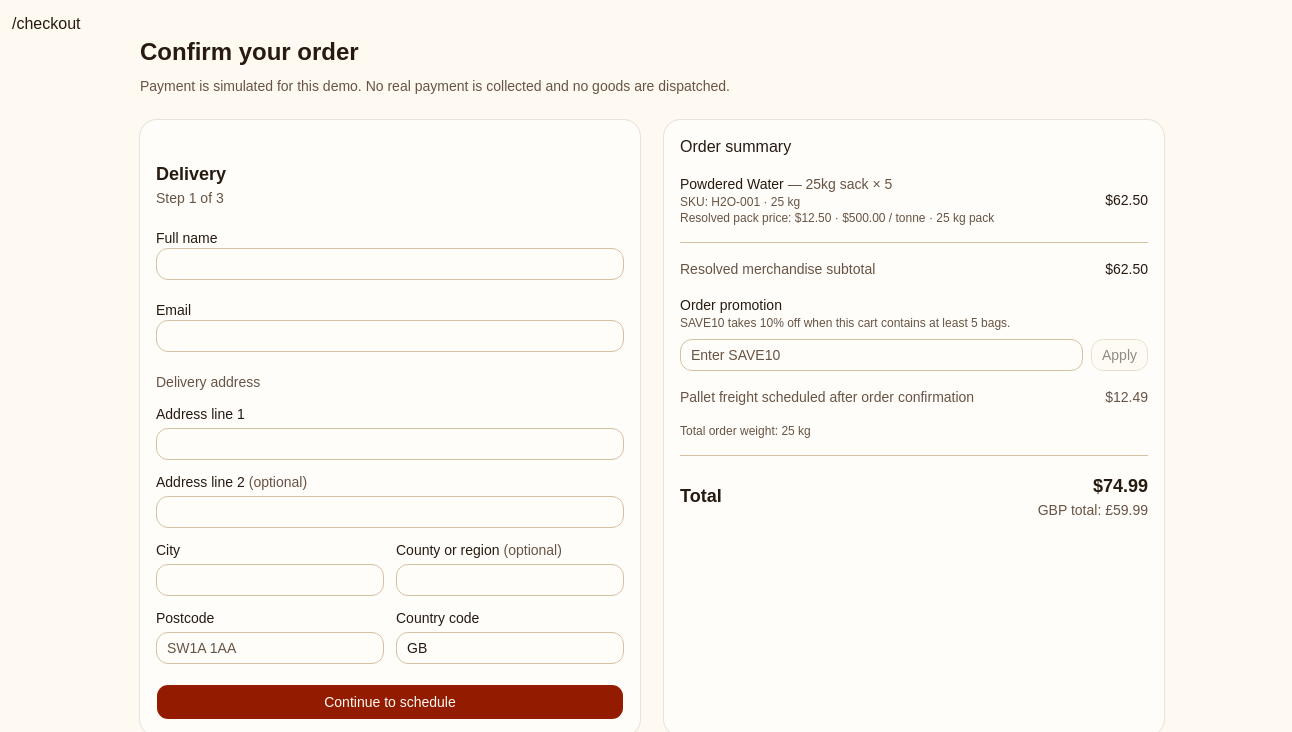
Test: Checkout summary and promotions › renders a category mismatch promo error
Type "AGG10" into the field labelled "Order promotion". click: (882, 355)
box: [680,339,1083,371]
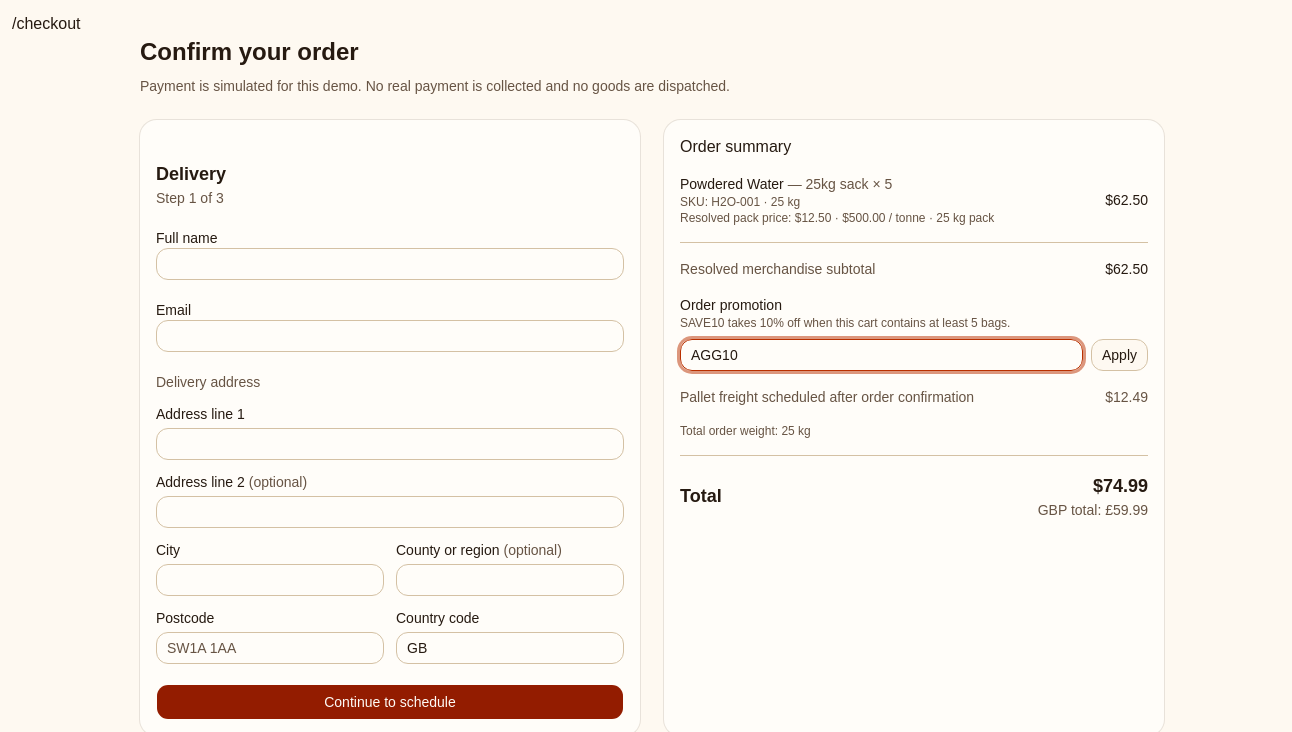
Click the button "Apply". click: (1120, 355)
box: [1091,339,1148,371]
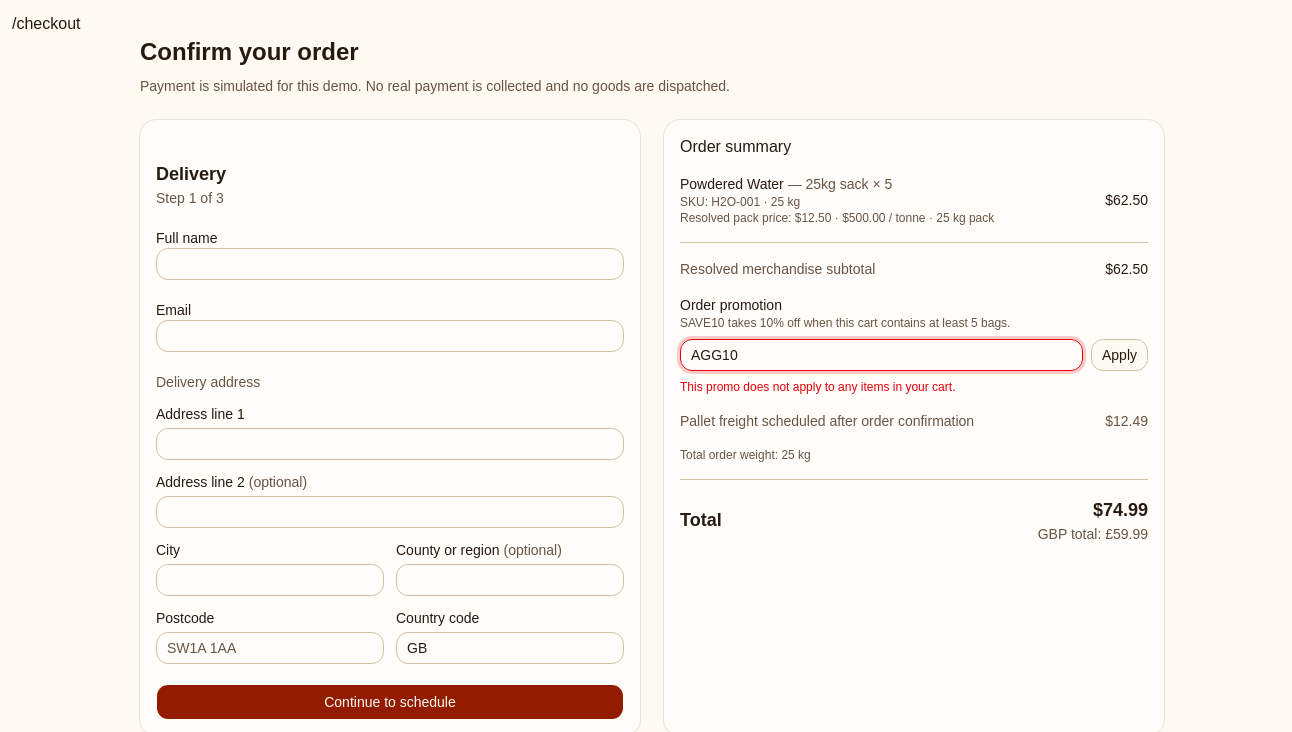
Check: the text "This promo does not apply to any items in your cart." is shown, box [680,380,956,394]
